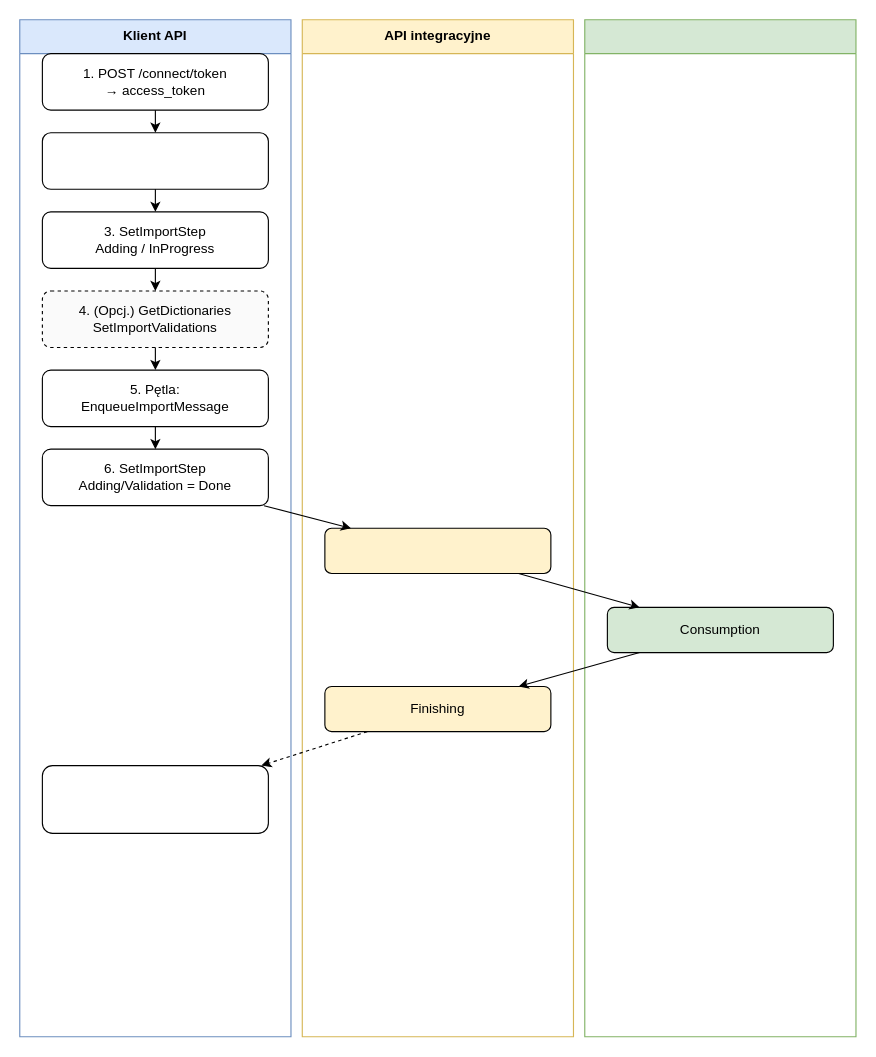
Some shapes in this 876 by 1057 pixel diagram are drawn without their labels. Here are the shapes that lost their labels. From the top down, the box of each, then its label:
(41, 132, 268, 189): 2. POST CreateImport → importId
(584, 19, 856, 1037): DEBT Manager
(324, 527, 551, 573): Validation
(41, 764, 268, 833): 8. GetImportStatus (polling) aż IsFinished=true
